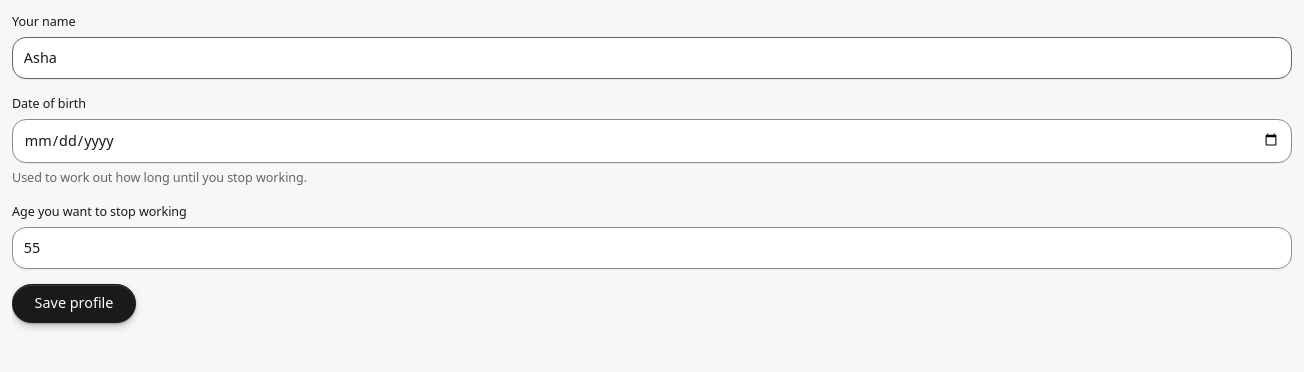
Test: ProfileForm › rejects a retirement age outside 30 to 80
The image size is (1304, 372).
Replace the text in the number field labelled "Age you want to stop working" with "20" at coordinates (652, 248), box [12,227,1292,269]
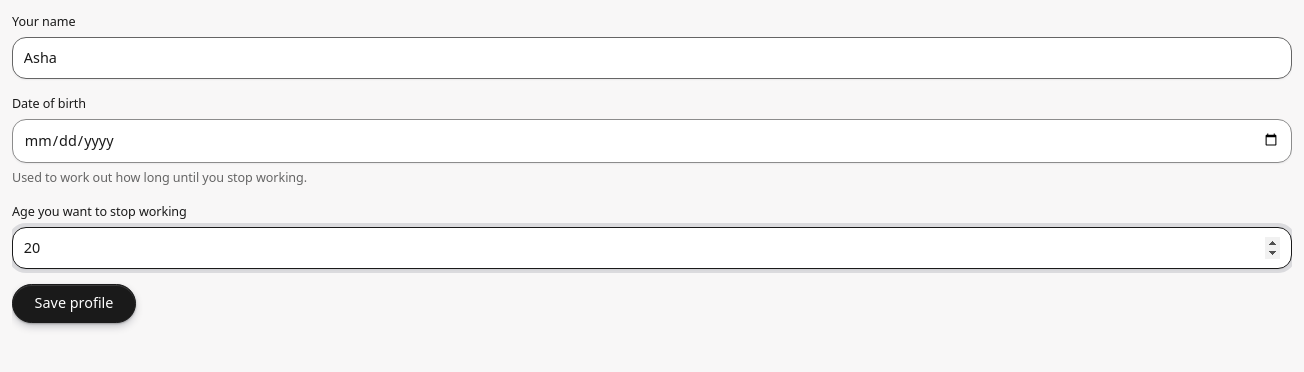
Click the button "Save profile".
click(74, 304)  # box [12,284,136,323]
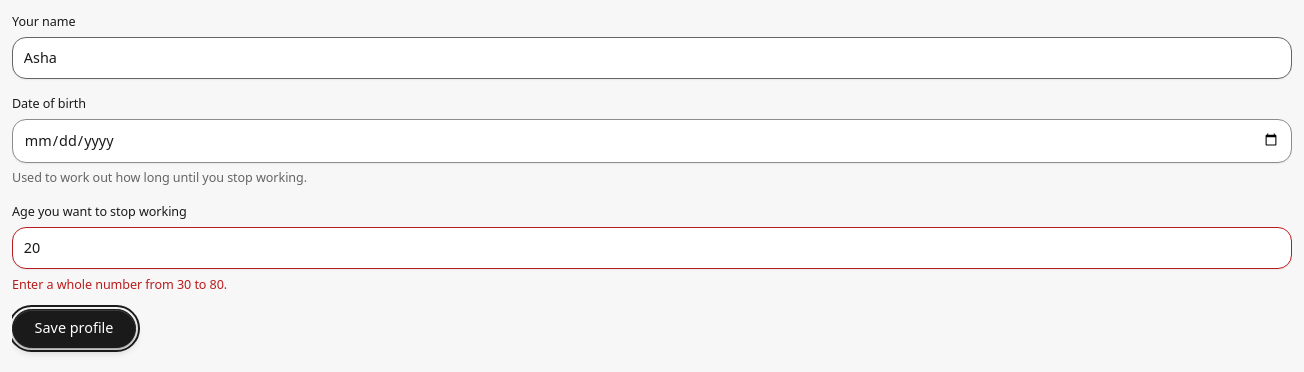
expect the text "Enter a whole number from 30 to 80." is shown: met, box [12,276,227,293]
